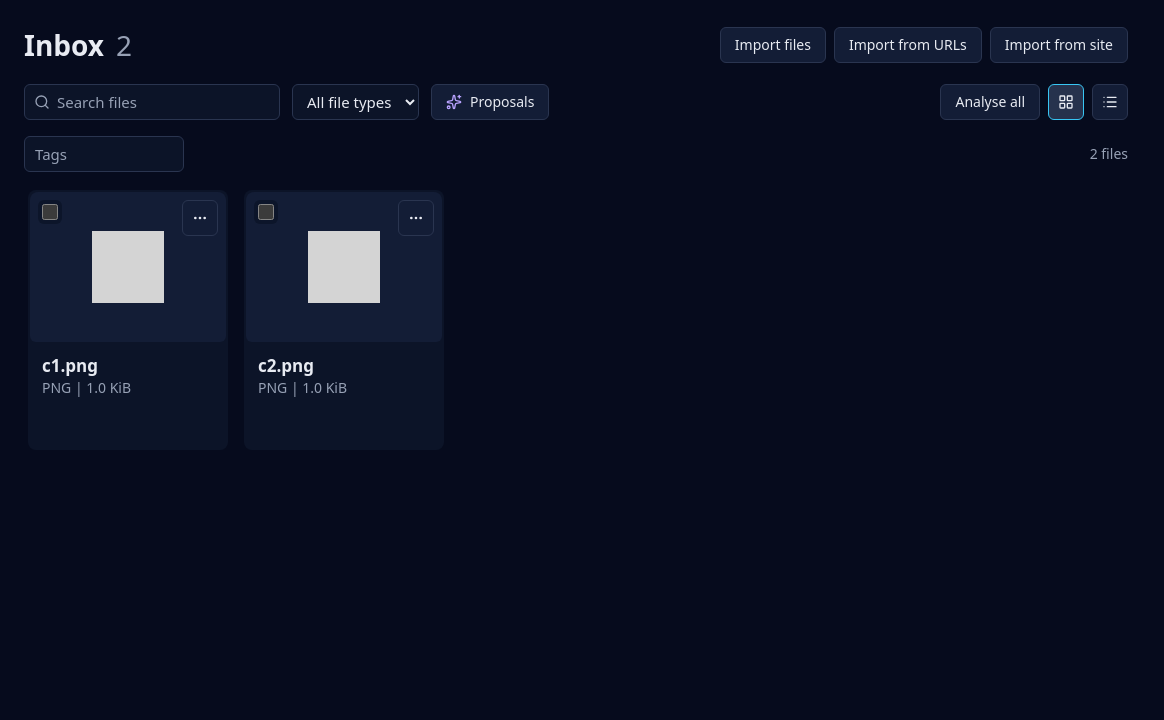
Test case: a partially failed assign lists the failure and drops the moved files
The width and height of the screenshot is (1164, 720).
Check: the text "c1.png" is shown, box [42,354,98,377]
Click the option "c1.png PNG | 1.0 KiB" at (128, 320), box [28,190,228,450]
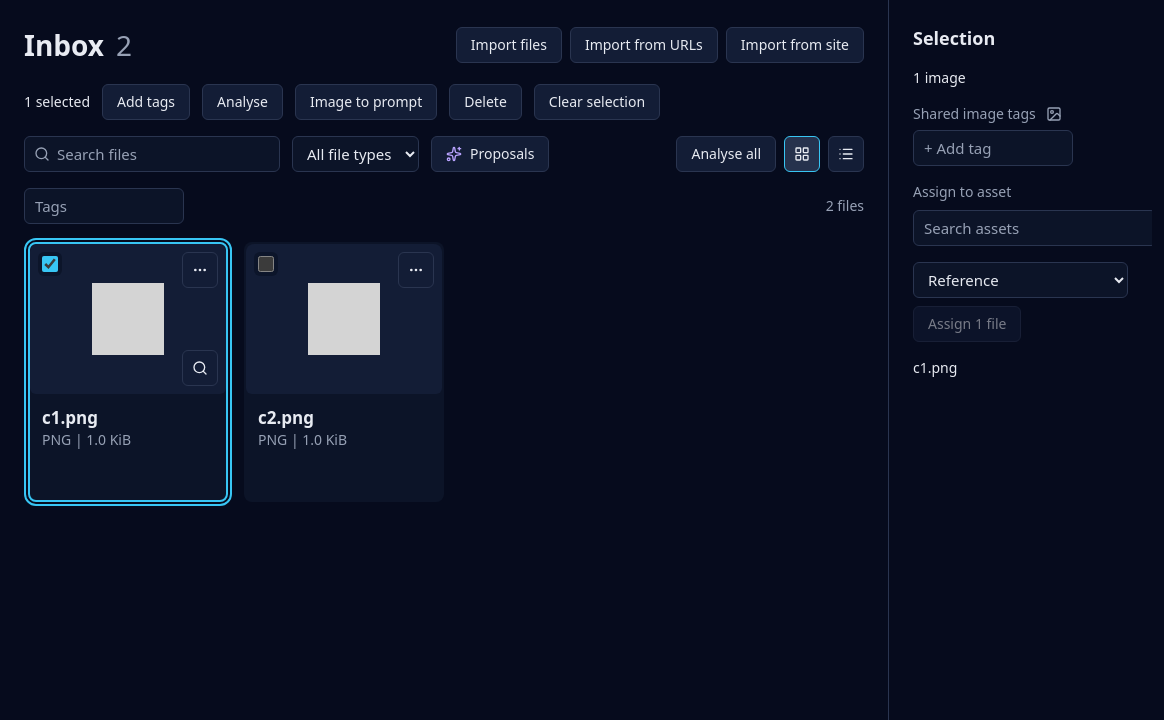
Type keys "{Shift>}"
Click the option "c2.png PNG | 1.0 KiB" at (344, 372), box [244,242,444,502]
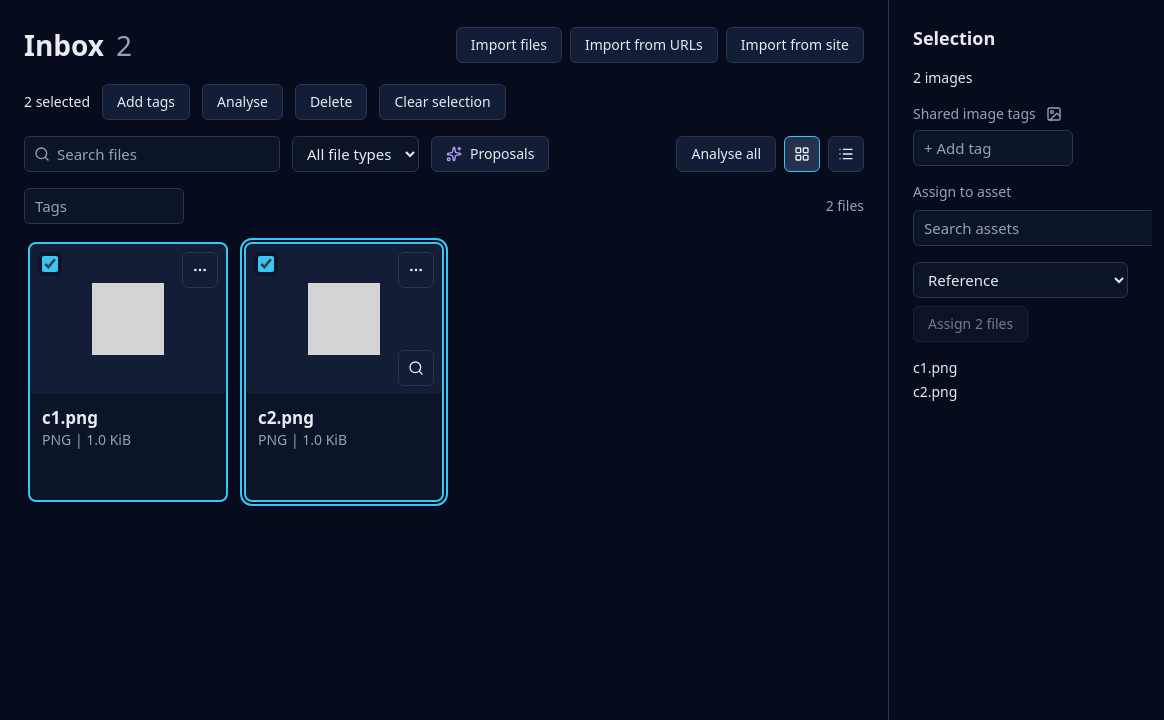
Type keys "{/Shift}"
Click the dropdown labelled "Search assets" at (1030, 228), box [908,210,1152,246]
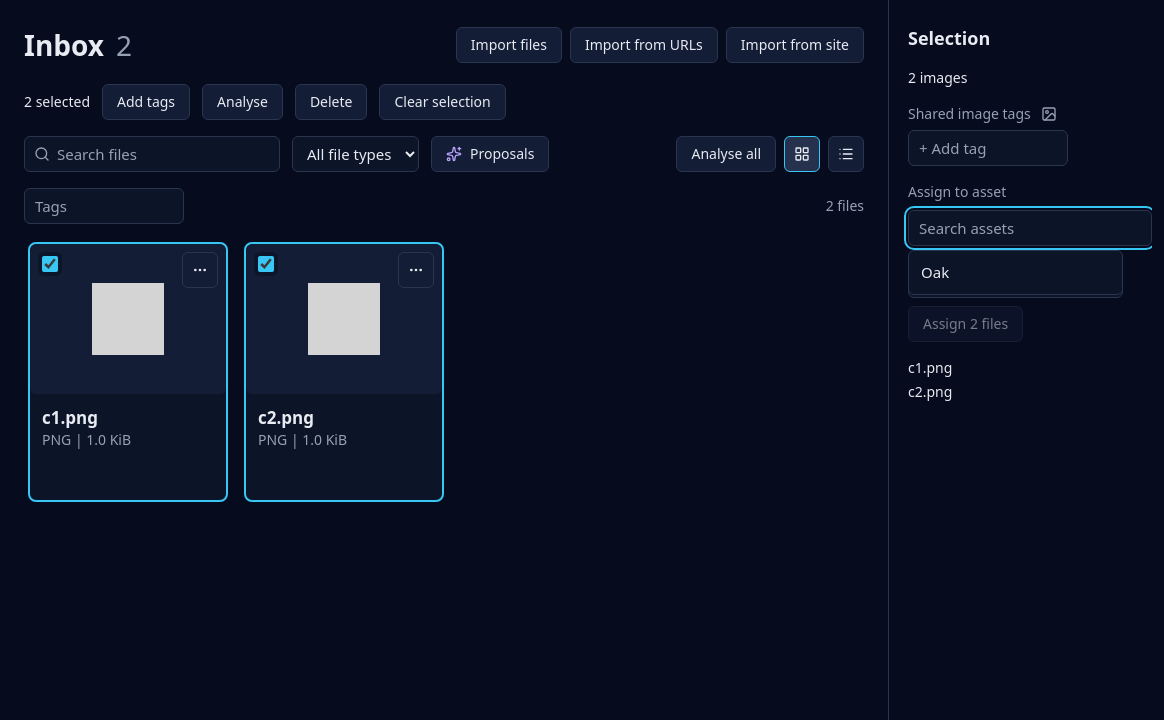
Check: the option "Oak" is shown, box [921,262,949,282]
Press Arrowdown Enter
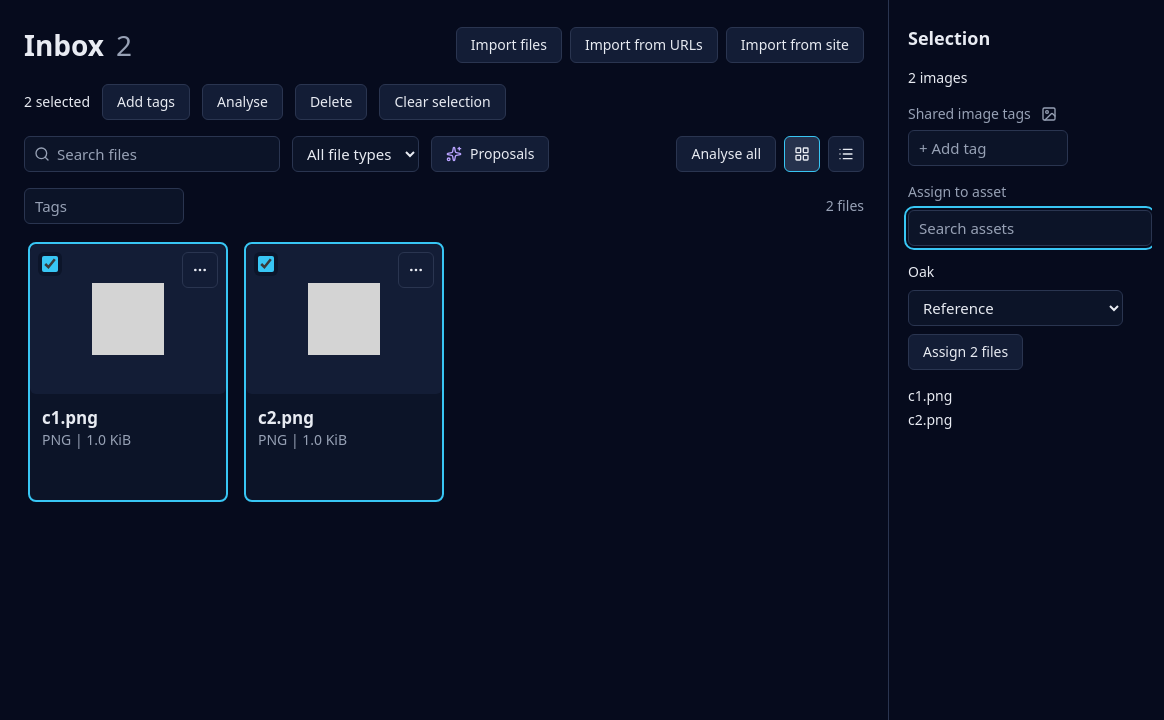
Check: the text titled "Target asset" reads "Oak", box [908,262,934,281]
Select "Concept" in the dropdown named "Role" at (1016, 308), box [908,290,1123,326]
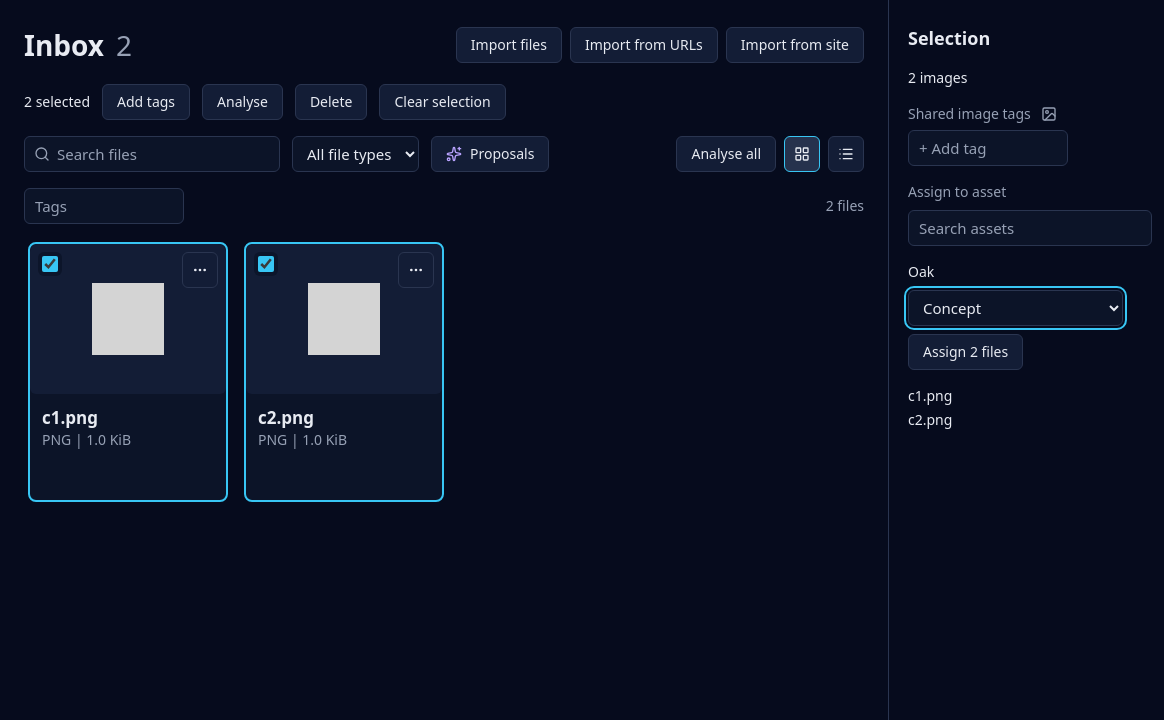
Click the button "Assign 2 files" at (966, 352), box [908,334,1023,370]
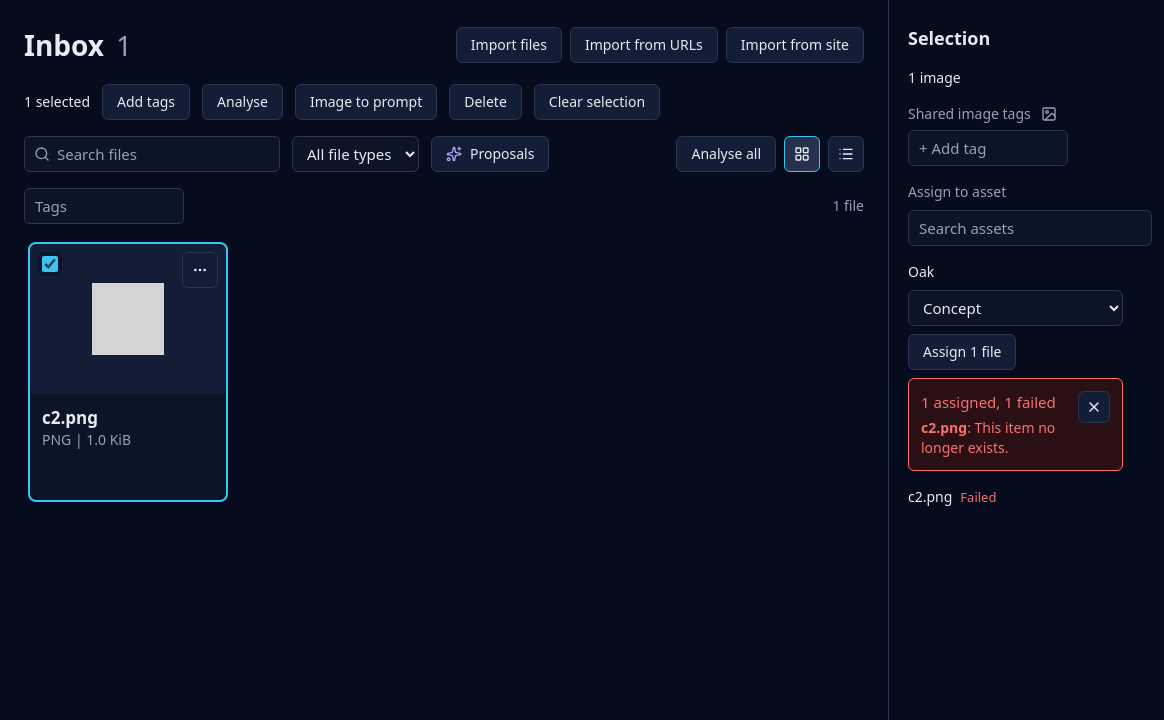
Check: the message shows "c2.png", box [921,418,967,436]
Check: the message shows "This item no longer exists.", box [921,418,1055,456]
Check: the option "c1.png" is gone
